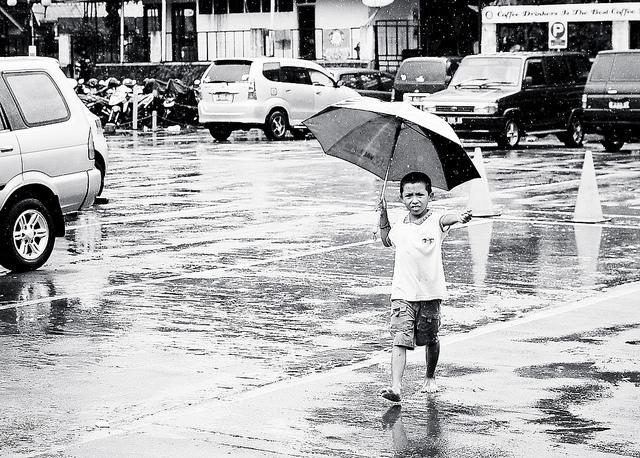car: (0, 57, 101, 276), (418, 54, 592, 149), (200, 54, 358, 143), (584, 50, 640, 150), (391, 56, 464, 103), (326, 67, 395, 102)
motorcycle: (103, 84, 167, 129), (158, 78, 200, 125), (88, 76, 120, 118), (142, 78, 170, 102)
truck: (421, 50, 592, 147), (580, 48, 640, 152)
